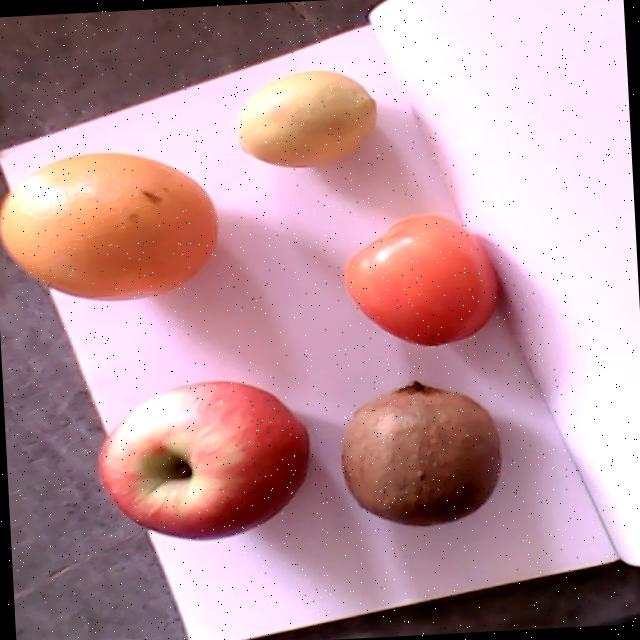apple: (100, 380, 309, 540)
kiwi: (341, 379, 501, 526)
lemon: (238, 69, 375, 166)
orange: (0, 152, 217, 301)
tomato: (345, 214, 497, 345)
